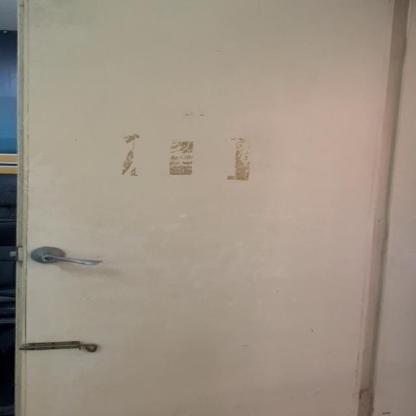door: (0, 0, 409, 416)
